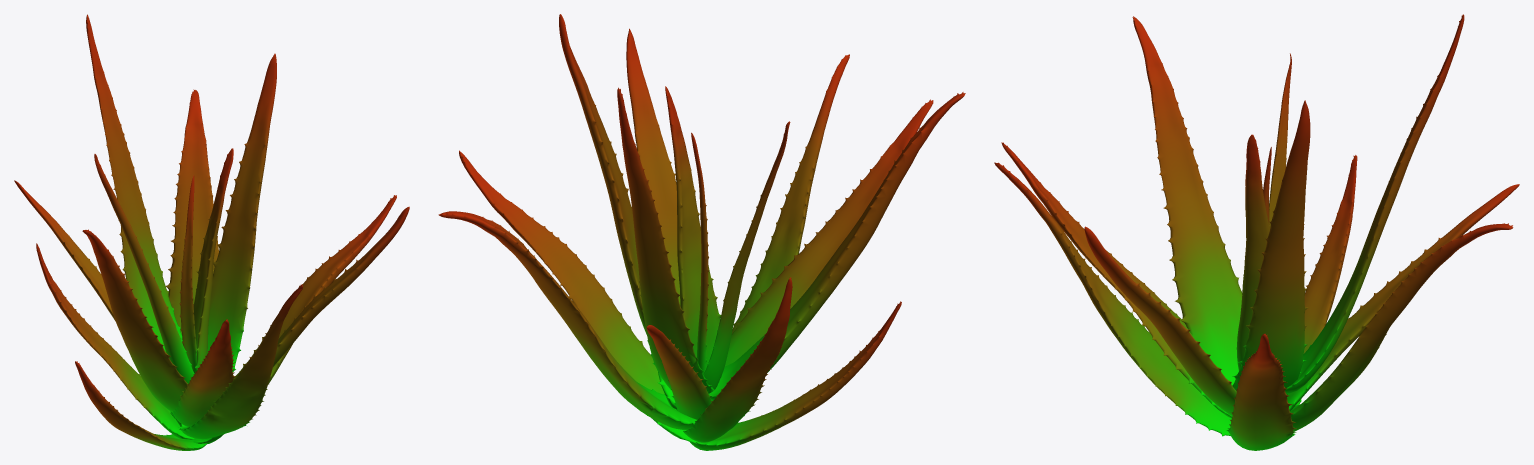
File: Aloe Vera_LOD0_Var9_ve4tbbrha.fbx
3 renders of one model, left to right at view 1: azimuth 30°, elevation 25°; view 2: azimuth 150°, elevation 25°; view 3: azimuth 270°, elevation 25°, orthographic. The views are drawn at different scales.
Parts seen in each view (by area): view 1: _jlxr_Var9_LOD0; view 2: _jlxr_Var9_LOD0; view 3: _jlxr_Var9_LOD0.
Part boxes in pixels (box(x1,y1,x2,y2)): _jlxr_Var9_LOD0: box(14, 14, 409, 450); _jlxr_Var9_LOD0: box(438, 14, 965, 450); _jlxr_Var9_LOD0: box(994, 14, 1519, 450).
Bounding box in the file's own units: 49.49 × 47.6 × 53.18.
